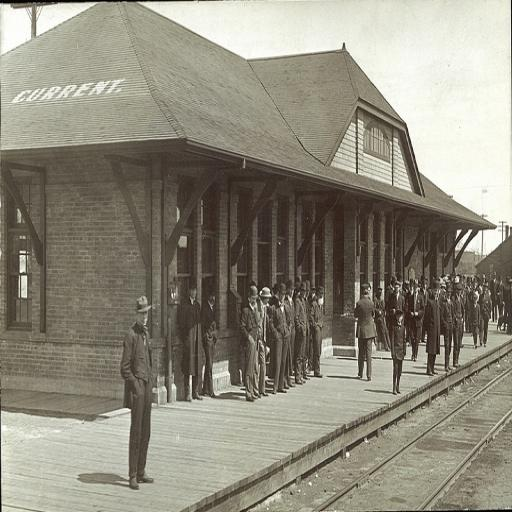platform_edge: (184, 426, 375, 512), (391, 341, 512, 400)
